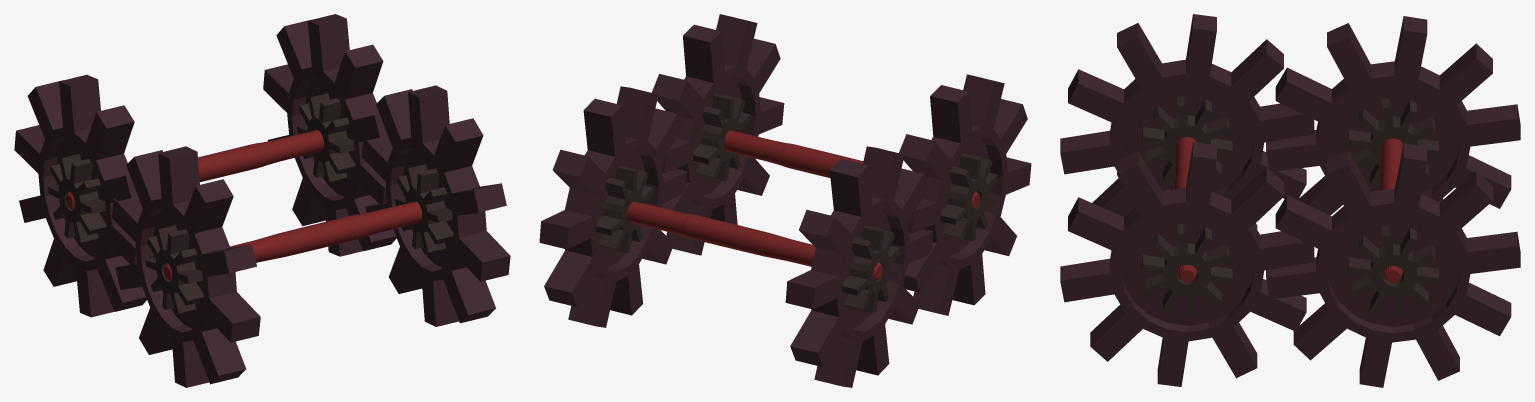
File: Gears_Animation_Aframe.glb
3 views of the same model, side by side, from view 1: azimuth 30°, elevation 25°; view 2: azimuth 150°, elevation 25°; view 3: azimuth 270°, elevation 25° (orthographic). The views are drawn at different scales.
Visible parts, largest first — view 1: Gear_5, Gear_4, Gear_6, Gear_3, Middle_Rotate_2, Middle_Gear_5, Middle_Gear_6, Middle_Rotate_1, Middle_Gear_4, Middle_Gear_3; view 2: Gear_6, Gear_3, Gear_5, Gear_4, Middle_Rotate_1, Middle_Gear_5, Middle_Gear_6, Middle_Gear_4, Middle_Gear_3, Middle_Rotate_2; view 3: Gear_3, Gear_4, Gear_6, Gear_5, Middle_Gear_3, Middle_Gear_4, Middle_Gear_5, Middle_Gear_6, Middle_Rotate_1, Middle_Rotate_2.
Boxes of the visible parts, bbox=[...] form: Gear_5: bbox=[111, 146, 260, 387]; Gear_4: bbox=[361, 85, 510, 326]; Gear_6: bbox=[14, 74, 146, 317]; Gear_3: bbox=[263, 14, 396, 256]; Middle_Rotate_2: bbox=[163, 201, 421, 281]; Middle_Gear_5: bbox=[145, 225, 203, 313]; Middle_Gear_6: bbox=[48, 154, 106, 242]; Middle_Rotate_1: bbox=[65, 130, 323, 209]; Middle_Gear_4: bbox=[395, 164, 453, 253]; Middle_Gear_3: bbox=[297, 93, 355, 182]; Gear_6: bbox=[785, 146, 933, 387]; Gear_3: bbox=[539, 86, 687, 327]; Gear_5: bbox=[899, 74, 1031, 315]; Gear_4: bbox=[651, 14, 784, 255]; Middle_Rotate_1: bbox=[627, 201, 882, 280]; Middle_Gear_5: bbox=[940, 154, 997, 241]; Middle_Gear_6: bbox=[842, 226, 899, 313]; Middle_Gear_4: bbox=[693, 94, 750, 180]; Middle_Gear_3: bbox=[596, 165, 653, 253]; Middle_Rotate_2: bbox=[724, 130, 979, 209]; Gear_3: bbox=[1266, 143, 1520, 387]; Gear_4: bbox=[1060, 142, 1314, 386]; Gear_6: bbox=[1266, 16, 1520, 215]; Gear_5: bbox=[1060, 14, 1314, 229]; Middle_Gear_3: bbox=[1348, 225, 1438, 316]; Middle_Gear_4: bbox=[1141, 224, 1232, 315]; Middle_Gear_5: bbox=[1141, 96, 1232, 184]; Middle_Gear_6: bbox=[1348, 98, 1438, 186]; Middle_Rotate_1: bbox=[1380, 138, 1403, 283]; Middle_Rotate_2: bbox=[1174, 137, 1197, 283].
Bounding box in the file's own units: 0.2148 × 0.1564 × 0.2818.
